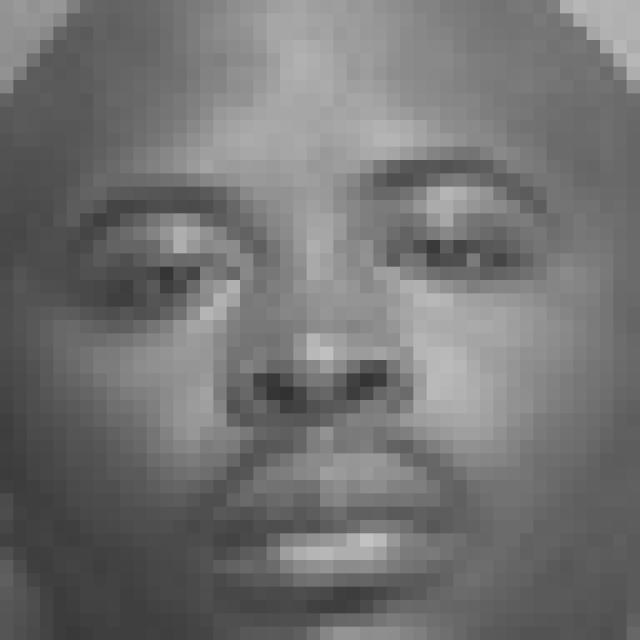neutral: (61, 148, 572, 623)
